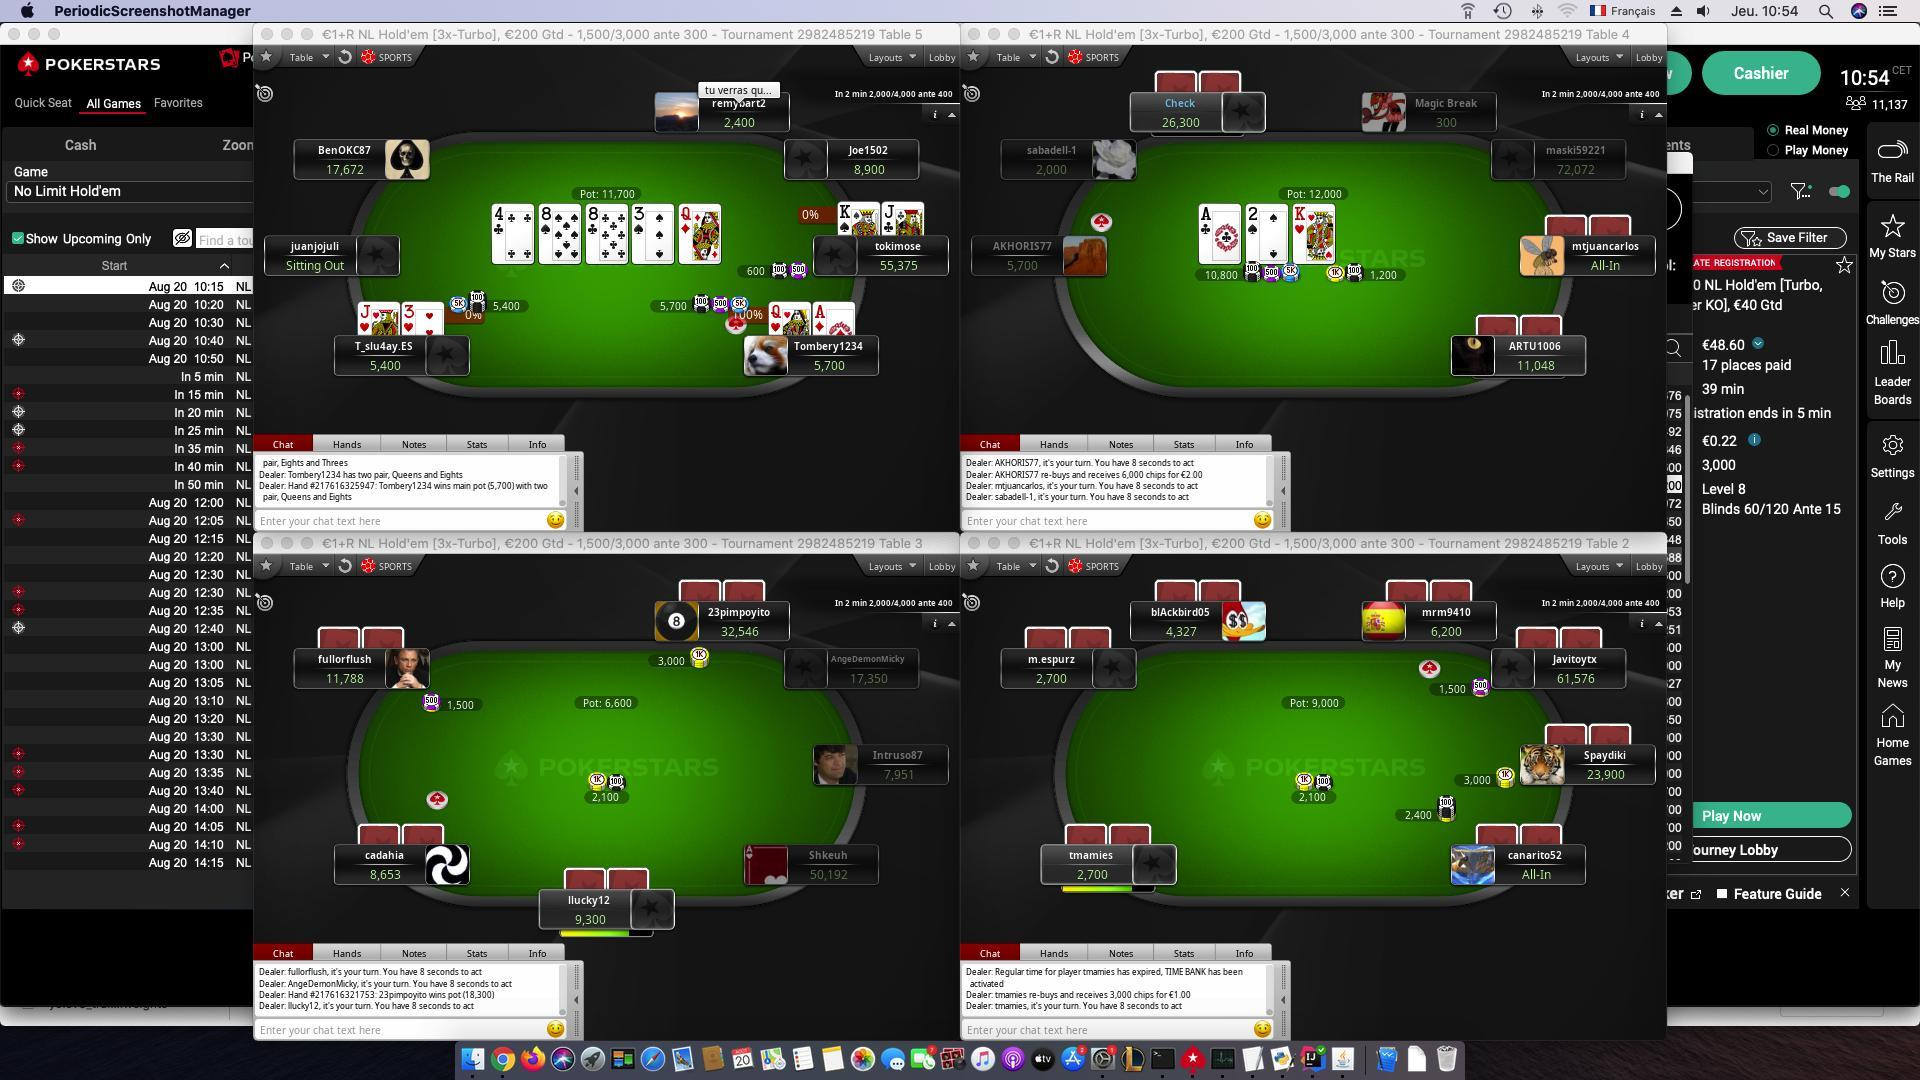2S: (1245, 203, 1262, 235)
3H: (401, 302, 415, 328)
3S: (630, 206, 649, 236)
4C: (493, 203, 506, 232)
8C: (584, 200, 596, 235)
8S: (537, 202, 553, 235)
AC: (1197, 203, 1215, 237)
AD: (815, 303, 825, 331)
JC: (882, 200, 898, 232)
JH: (357, 303, 372, 330)
KH: (1290, 203, 1308, 232)
KS: (835, 200, 855, 233)
QD: (678, 206, 694, 235)
QH: (769, 299, 783, 331)
